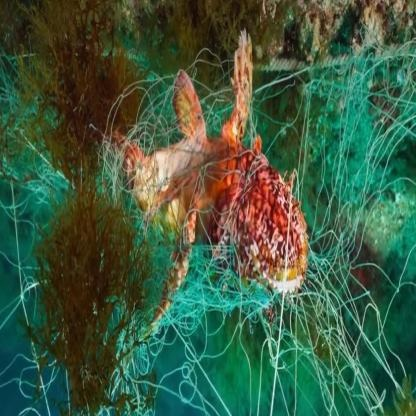net: (52, 128, 406, 416)
